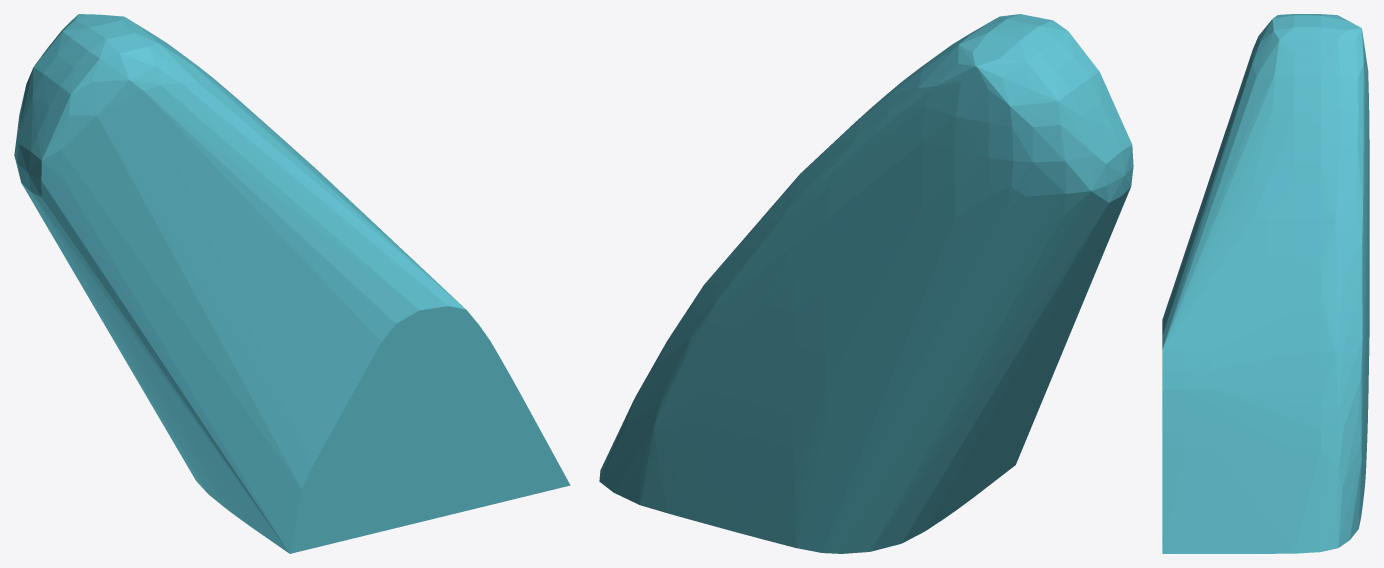
3 renders of one model, left to right at view 1: azimuth 30°, elevation 25°; view 2: azimuth 150°, elevation 25°; view 3: azimuth 270°, elevation 25°, orthographic. The views are drawn at different scales.
Size of the model in its own units: 0.031 by 0.0309 by 0.015.
